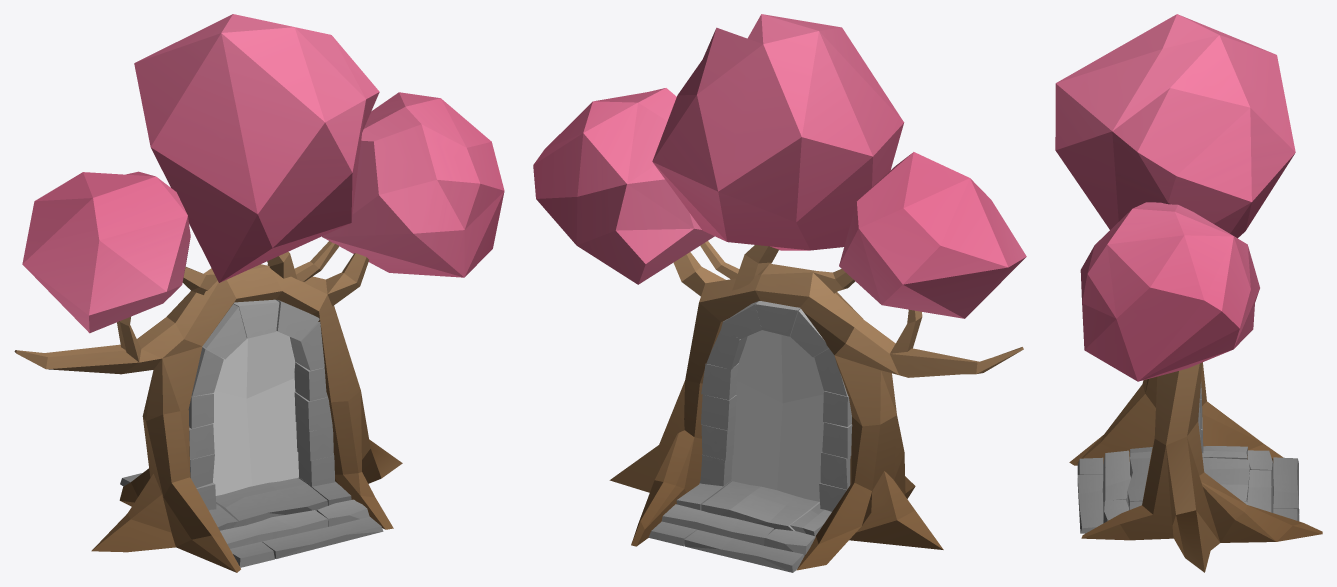
File: tree_portal_pink.fbx
3 renders of one model, left to right at view 1: azimuth 30°, elevation 25°; view 2: azimuth 150°, elevation 25°; view 3: azimuth 270°, elevation 25°, orthographic. The views are drawn at different scales.
Parts seen in each view (by area): view 1: tree_portal_pink; view 2: tree_portal_pink; view 3: tree_portal_pink.
Boxes of the visible parts, x1,y1,x2,y2 form: tree_portal_pink: (14,14,504,572); tree_portal_pink: (533,14,1026,572); tree_portal_pink: (1055,14,1322,572).
Bounding box in the file's own units: 12.03 × 11.97 × 6.2.
Materials: 2 (1 with a texture image).
